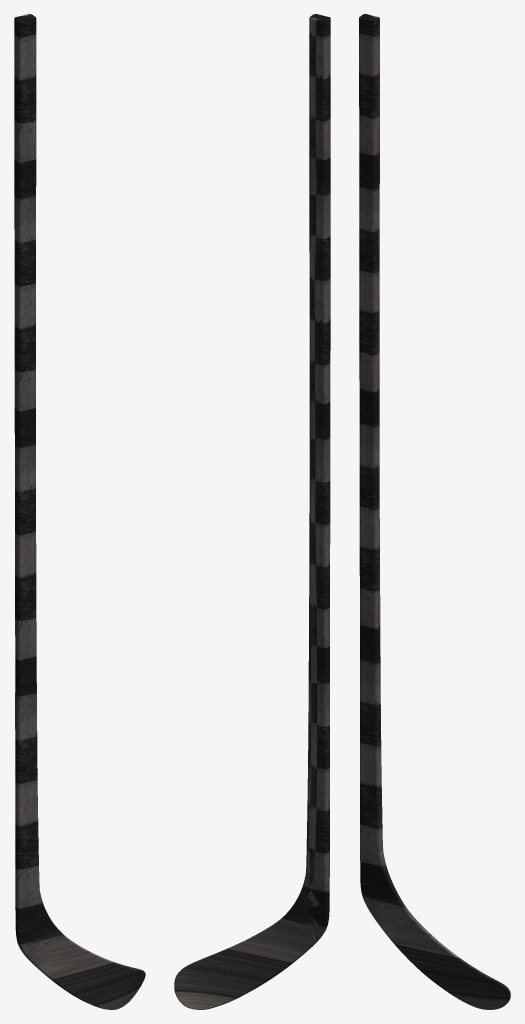
The model's file is P12-SBT.glb.
The picture shows the model from 3 angles, left to right: view 1: azimuth 30°, elevation 25°; view 2: azimuth 150°, elevation 25°; view 3: azimuth 330°, elevation 25°; orthographic projection. The views are drawn at different scales.
Visible parts, largest first — view 1: geometry_0; view 2: geometry_0; view 3: geometry_0.
Boxes of the visible parts, box(x1,y1,x2,y2) form: geometry_0: box(14, 14, 145, 1009); geometry_0: box(174, 14, 330, 1009); geometry_0: box(359, 14, 510, 1009).
Bounding box in the file's own units: 240 × 1650 × 60.86.
Materials: 1 (1 with a texture image).
